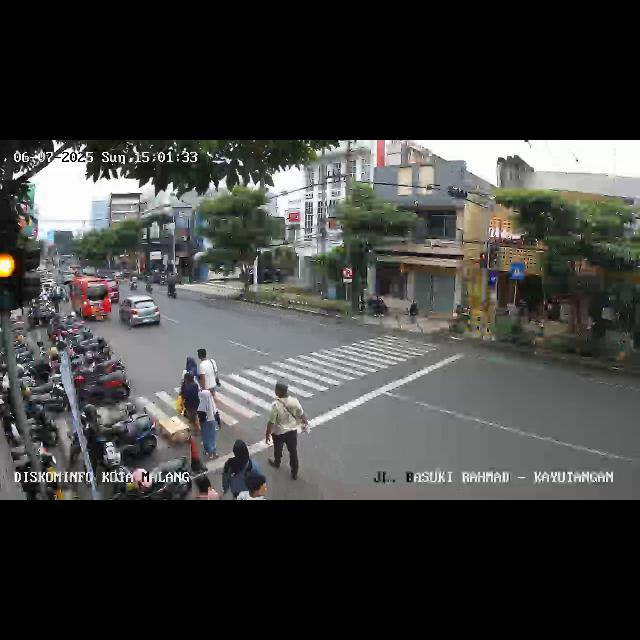car: (68, 277, 112, 323), (120, 294, 162, 330), (110, 279, 120, 303)
person: (267, 379, 307, 471), (222, 438, 266, 500), (196, 389, 218, 463), (196, 349, 222, 407), (178, 363, 198, 425), (182, 355, 198, 387)
